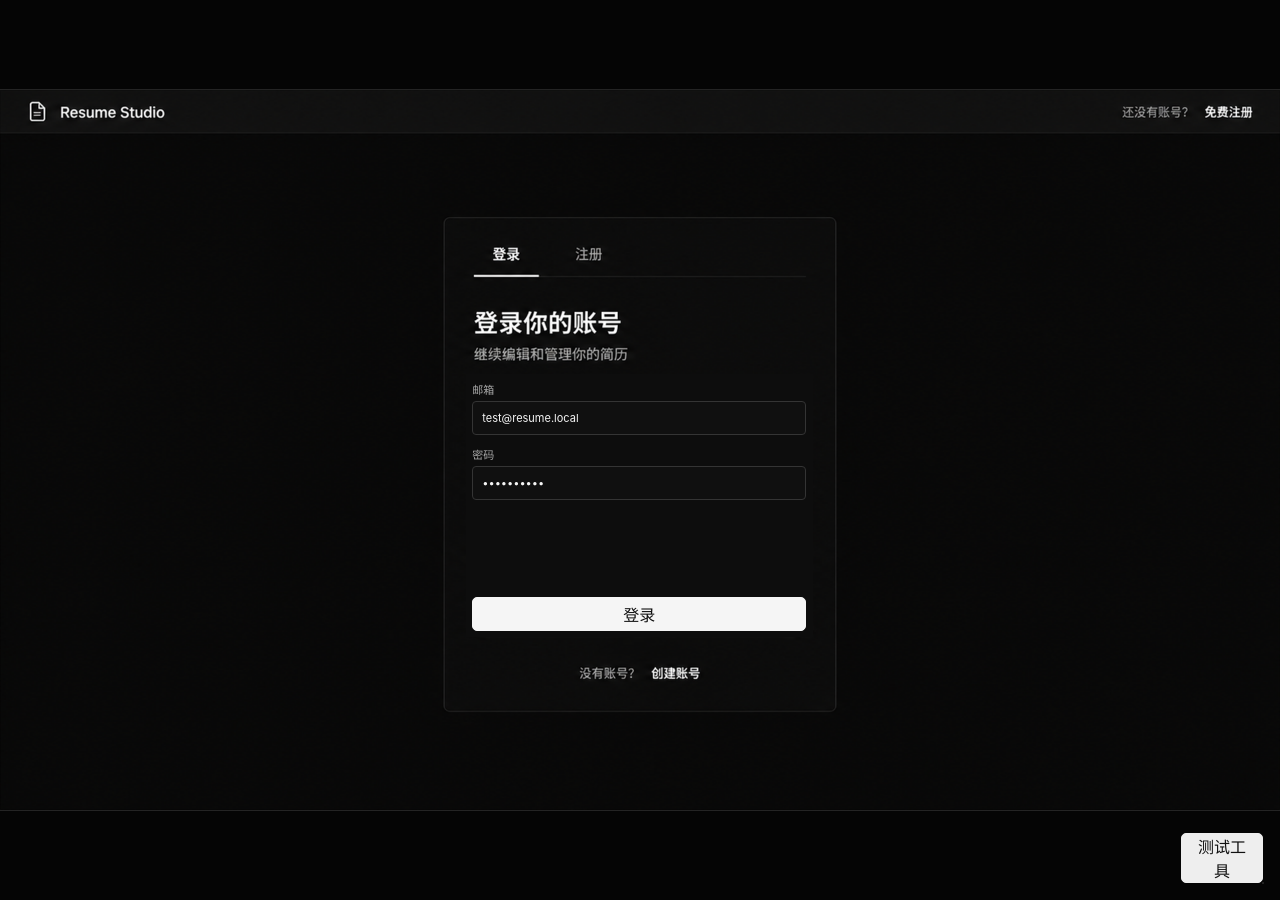
Scenario: primary prototype flow › opens a real quota overlay from the tester controls
The width and height of the screenshot is (1280, 900).
Click the button "测试工具": click(1222, 858) [1181,833,1263,883]
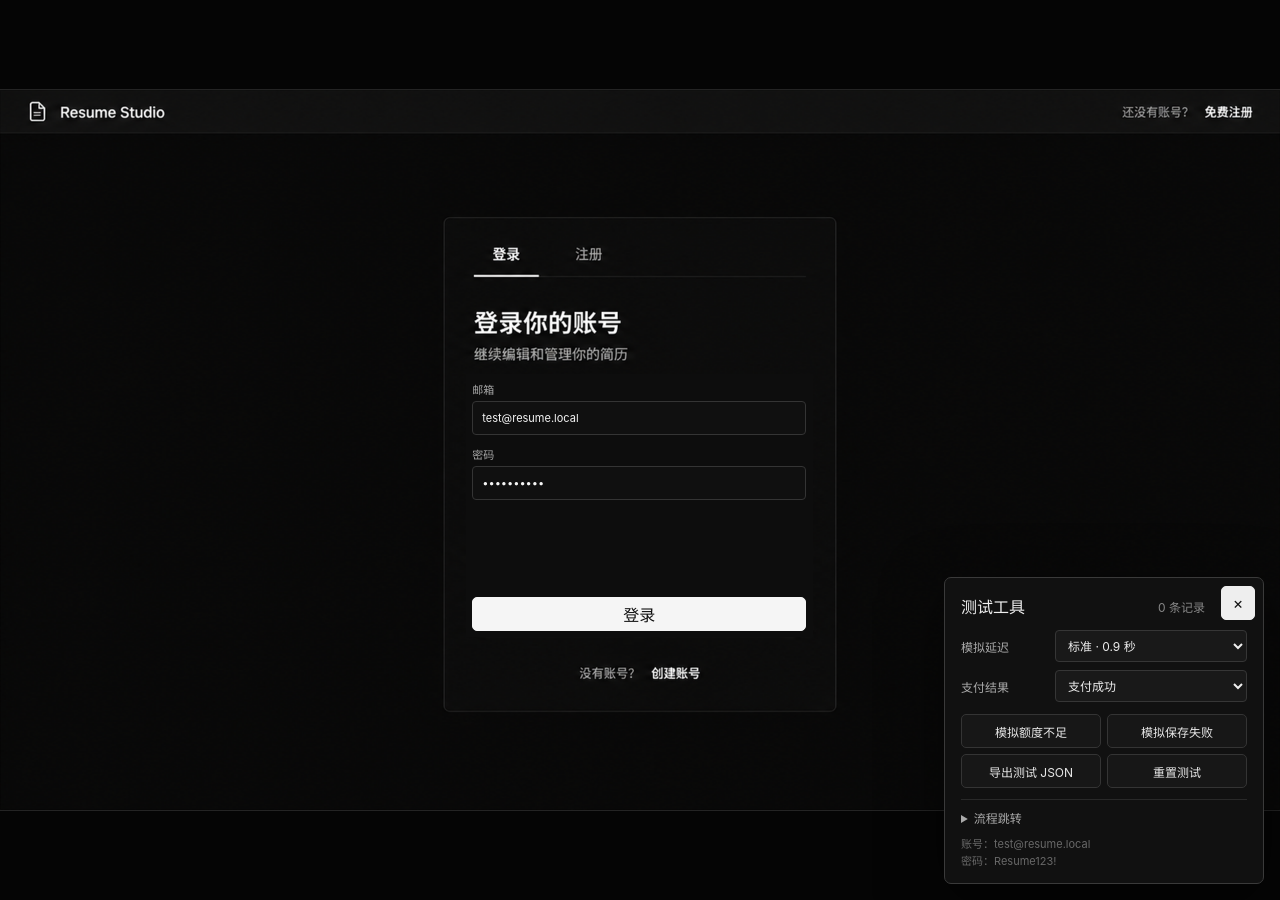
Click the button "模拟额度不足": click(1031, 731) [961,714,1101,748]
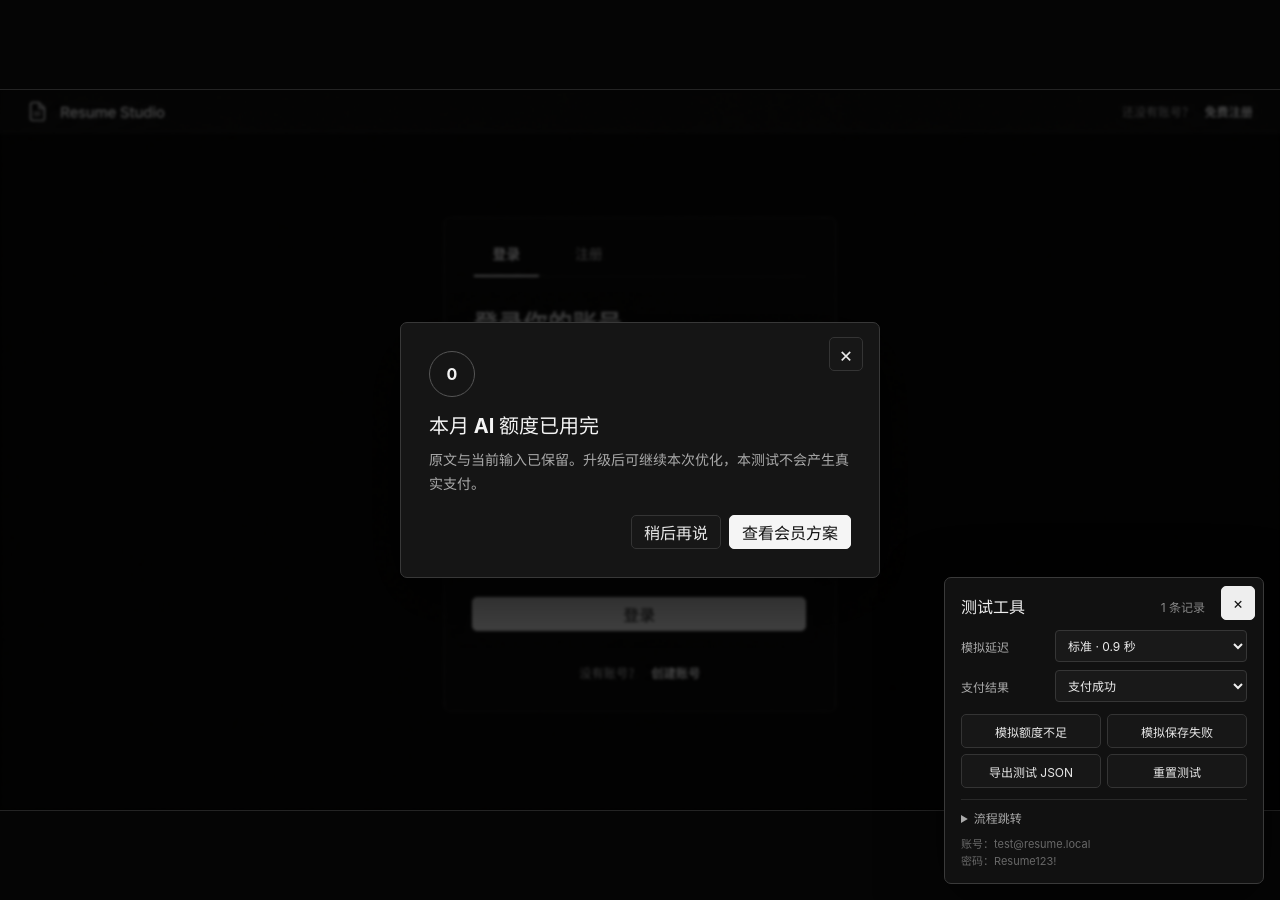
Expected: the dialog "本月 AI 额度已用完" is shown, [400,322,880,578]
Press Escape
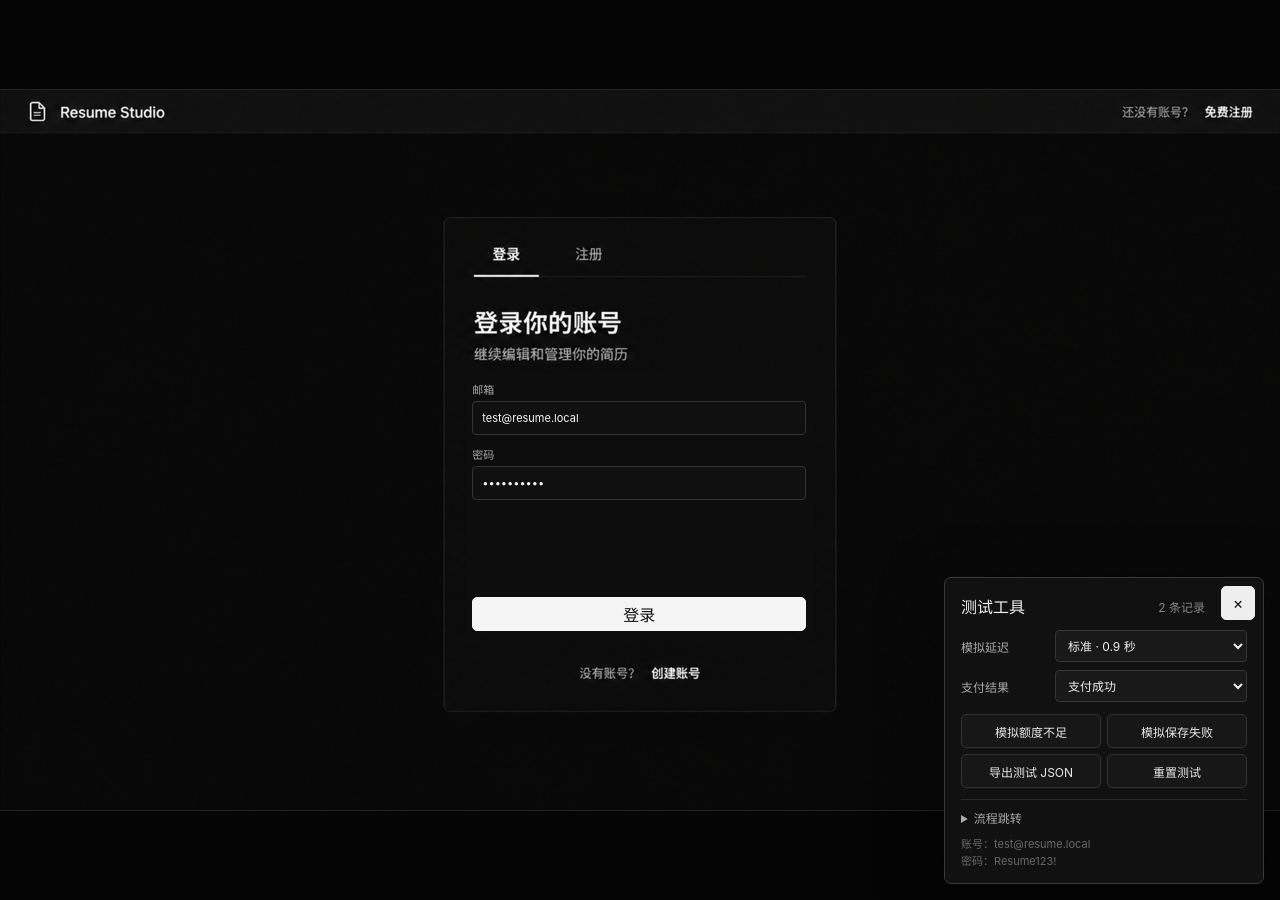
Expected: the dialog is gone
